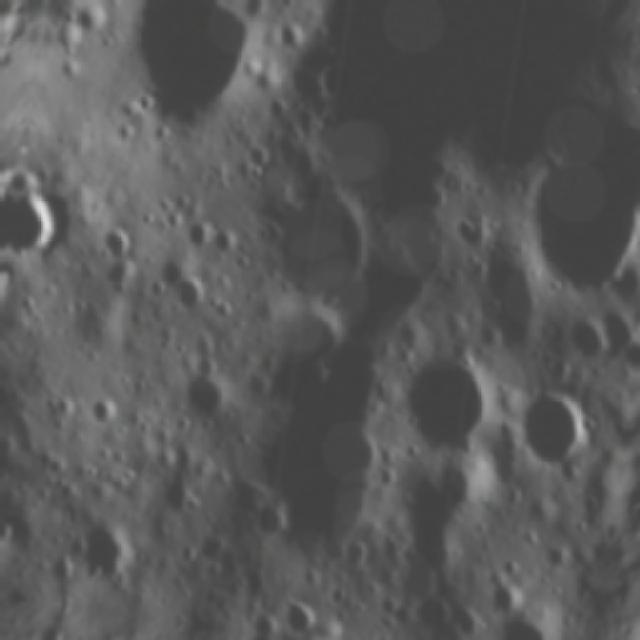crater: (231, 146, 394, 326), (107, 0, 281, 132), (503, 145, 640, 304), (378, 448, 480, 612), (454, 228, 552, 363), (392, 340, 505, 457), (509, 380, 609, 477), (5, 168, 86, 281), (84, 206, 154, 306), (67, 509, 147, 588), (583, 294, 640, 366), (177, 365, 241, 429), (478, 594, 567, 640), (554, 304, 614, 368), (243, 495, 297, 554), (478, 566, 531, 619), (163, 264, 214, 319), (157, 468, 208, 520), (270, 586, 316, 637), (86, 389, 132, 434), (0, 505, 26, 553)
